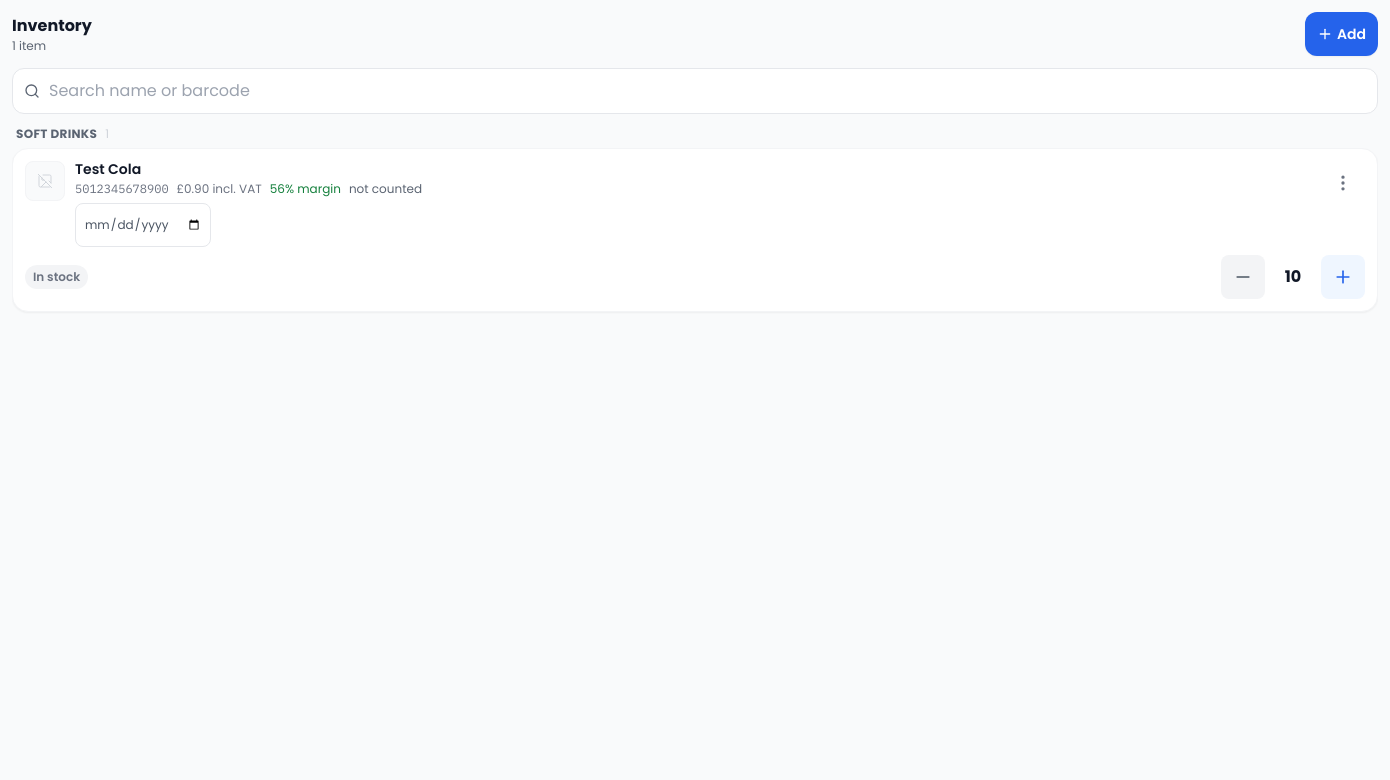
Test: Stock — Add/Edit forms render without crashing (validBarcode in scope) › opens the Add form
Click the button "Add" at (1342, 34), box top-left (1305, 12), bottom-right (1378, 56)
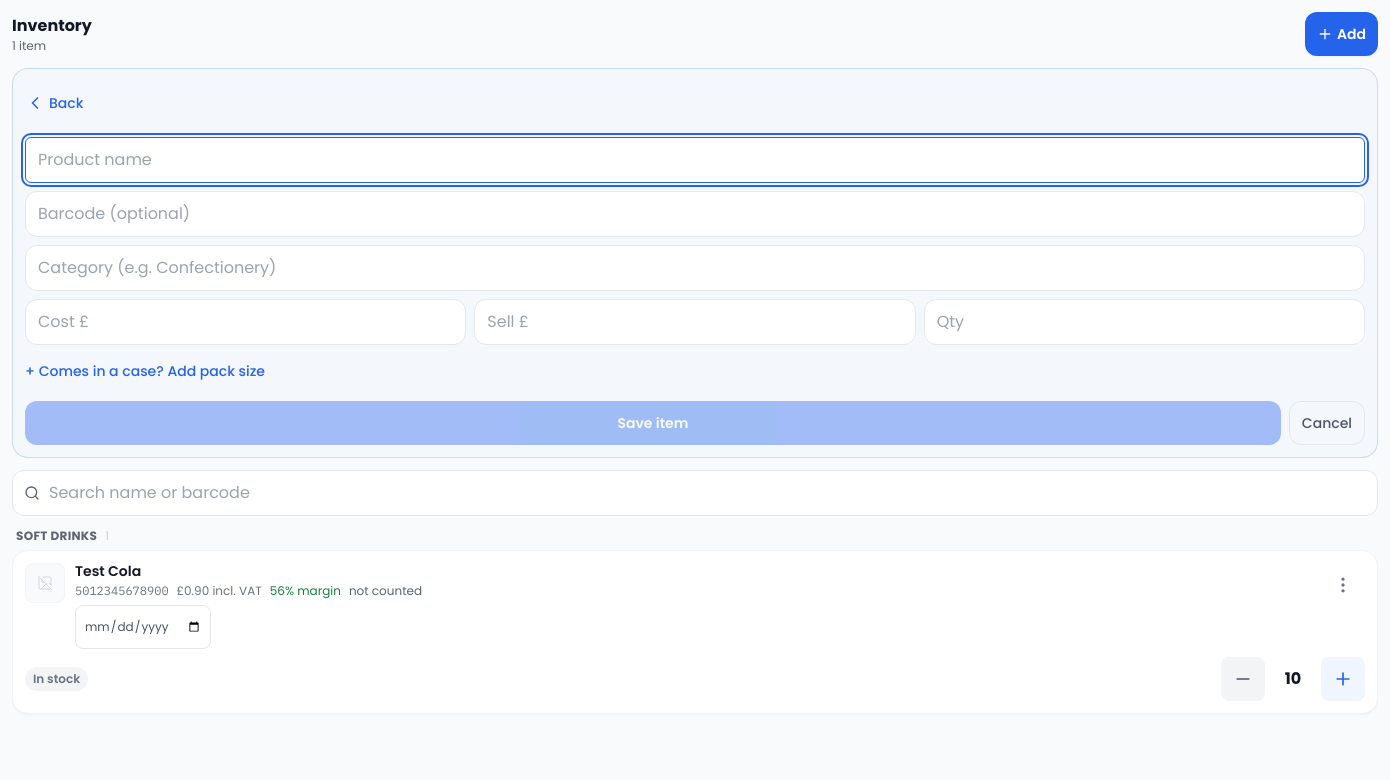
Check: the button "Save item" is shown, box top-left (25, 401), bottom-right (1281, 445)
